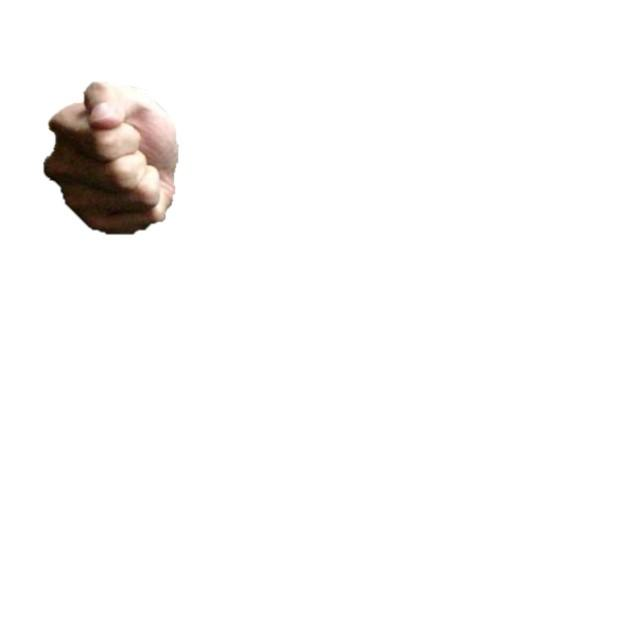gu-: (42, 79, 180, 238)
